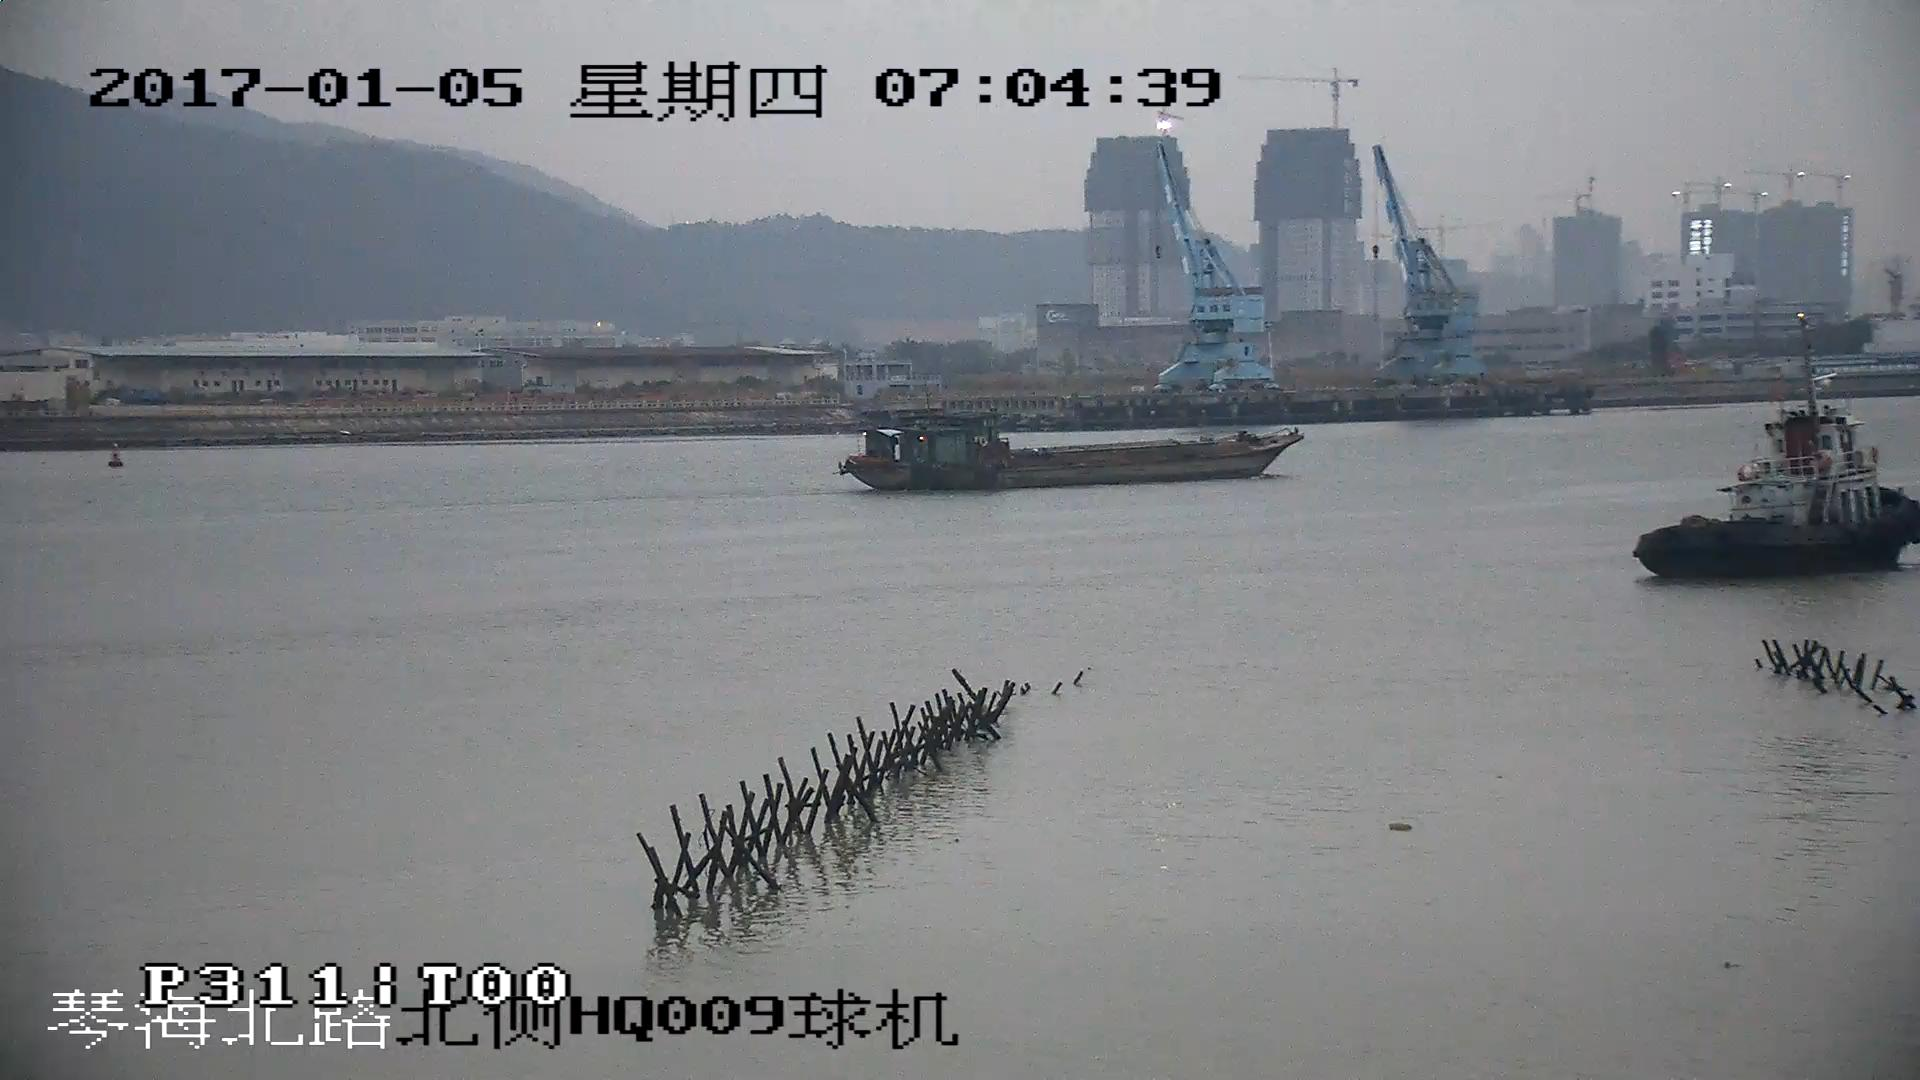bulk cargo carrier: (840, 414, 1301, 490)
